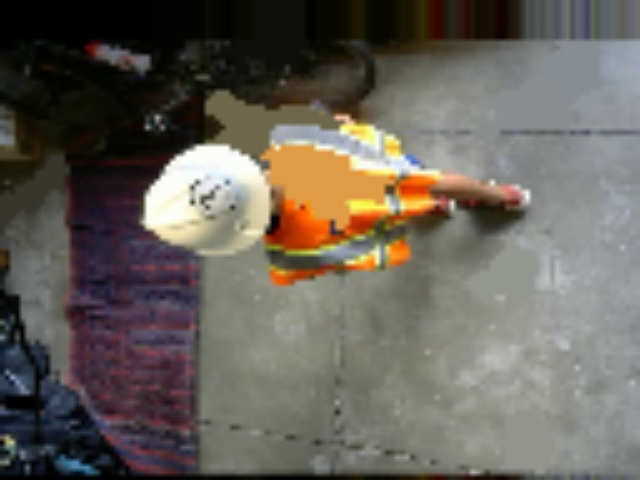three: (187, 178, 237, 217)
